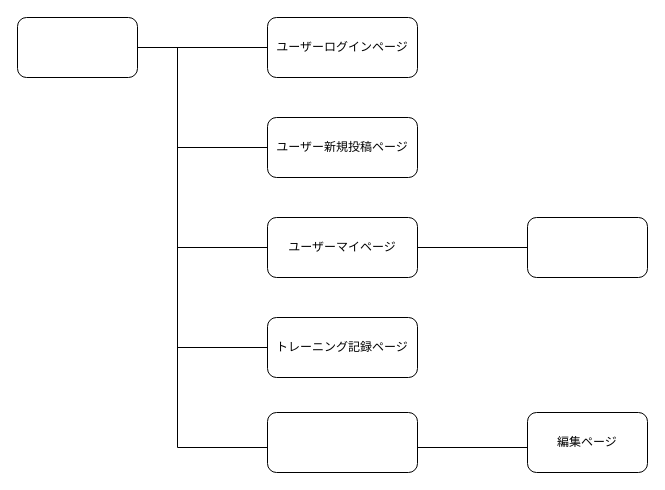
Some shapes in this 665 by 490 pixel diagram are drawn without their labels. Each missing label, with the box of its shape:
ユーザー編集ページ: (526, 216, 648, 278)
一覧ページ: (16, 16, 138, 78)
詳細ページ: (266, 412, 418, 472)
